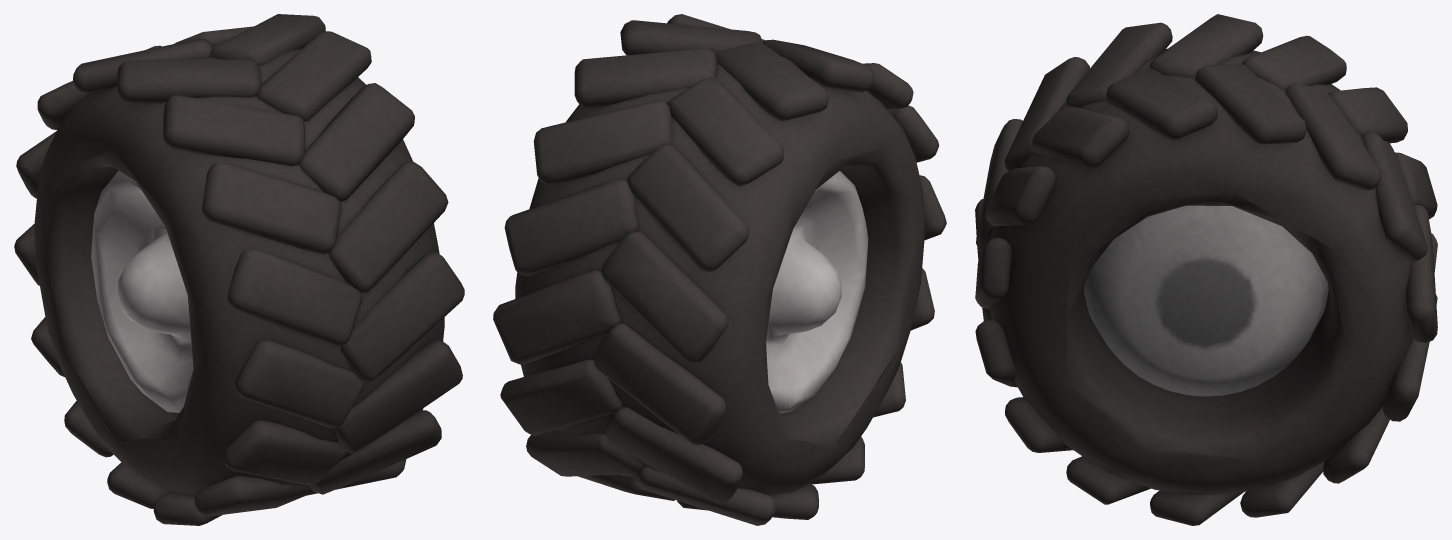
3 renders of one model, left to right at view 1: azimuth 30°, elevation 25°; view 2: azimuth 150°, elevation 25°; view 3: azimuth 270°, elevation 25°, orthographic. The views are drawn at different scales.
Parts seen in each view (by area): view 1: wheel_RR; view 2: wheel_RR; view 3: wheel_RR.
Part boxes in pixels (x1,y1,x2,y2): wheel_RR: (14, 14, 464, 525); wheel_RR: (493, 14, 946, 525); wheel_RR: (975, 14, 1437, 525).
Size of the model in its own units: 0.2395 by 0.417 by 0.4153.
Materials: 1 (1 with a texture image).
